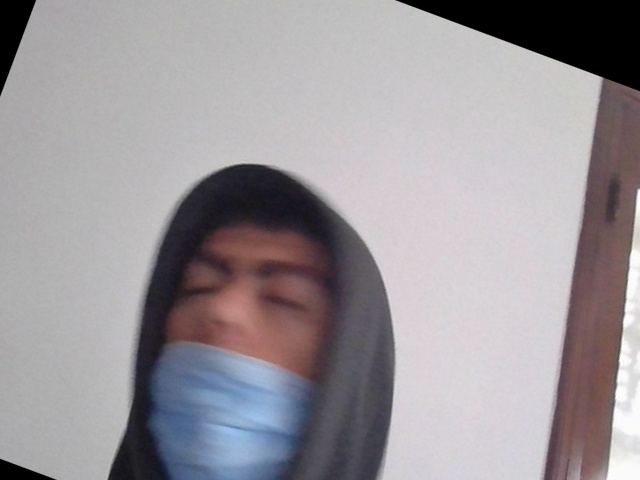mask_weared_incorrect: (143, 187, 343, 475)
